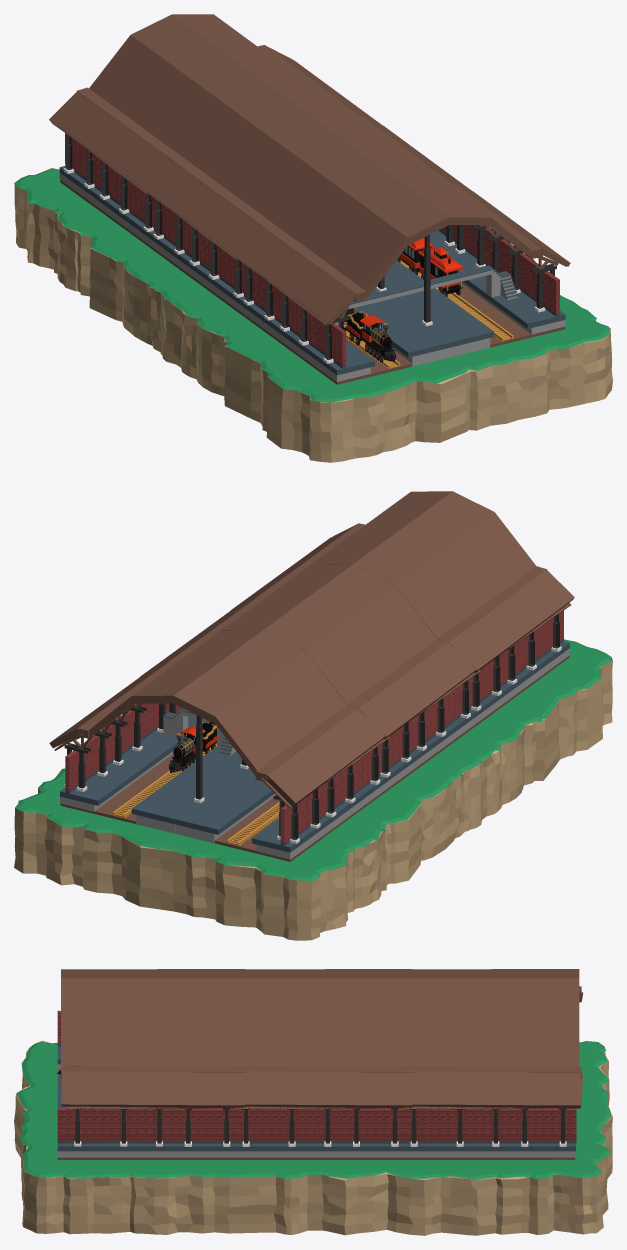
Rendered from LevelOnePreview.glb.
3 views of the same model, one above another, from view 1: azimuth 30°, elevation 25°; view 2: azimuth 150°, elevation 25°; view 3: azimuth 270°, elevation 25° (orthographic). The views are drawn at different scales.
Parts seen in each view (by area): view 1: Cliff, RoofMain, RoofSide.001, FloorCentral, WallSide.001, FloorSide.001, RoofSide, FloorSide, WallSide, StairsCorner.001, FloorTrain, FloorTrain.001 (+3 smaller); view 2: Cliff, RoofMain, RoofSide.001, FloorCentral, WallSide.001, FloorSide.001, RoofSide, FloorSide, WallSide, FloorTrain.001, FloorTrain, Train (+2 smaller); view 3: Cliff, RoofMain, RoofSide, WallSide, FloorSide, FloorTrain.
Part boxes in pixels (box(x1,y1,x2,y2)): Cliff: box(14, 168, 612, 462); RoofMain: box(89, 14, 532, 298); RoofSide.001: box(49, 87, 366, 325); FloorCentral: box(355, 260, 494, 366); WallSide.001: box(65, 133, 346, 368); FloorSide.001: box(59, 166, 374, 381); RoofSide: box(258, 45, 570, 269); FloorSide: box(424, 230, 565, 334); WallSide: box(438, 225, 559, 316); StairsCorner.001: box(335, 265, 518, 325); FloorTrain: box(400, 259, 565, 347); FloorTrain.001: box(60, 180, 412, 384); Cliff: box(14, 639, 612, 940); RoofMain: box(89, 491, 535, 775); RoofSide.001: box(255, 566, 574, 807); FloorCentral: box(131, 746, 275, 843); WallSide.001: box(280, 610, 563, 846); FloorSide.001: box(252, 641, 569, 859); RoofSide: box(49, 523, 365, 750); FloorSide: box(60, 716, 208, 811); WallSide: box(65, 703, 182, 793); FloorTrain.001: box(214, 655, 569, 861); FloorTrain: box(60, 742, 216, 823); Train: box(169, 721, 216, 772); Cliff: box(14, 1040, 612, 1235); RoofMain: box(61, 969, 579, 1066); RoofSide: box(61, 1066, 582, 1109); WallSide: box(57, 1108, 576, 1143); FloorSide: box(57, 1143, 575, 1157); FloorTrain: box(57, 1157, 575, 1159).
Size of the model in its own units: 78.98 by 48.15 by 140.
17 materials, 2 textured.
